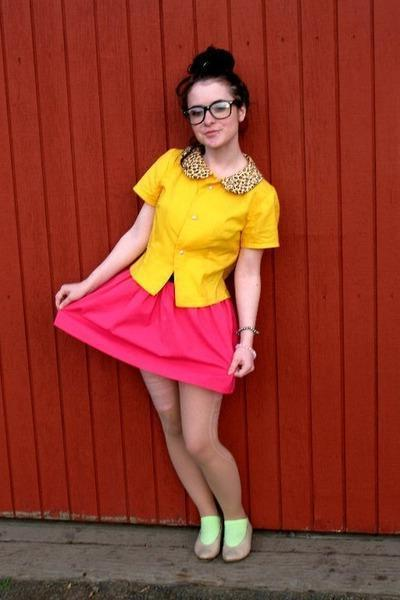short sleeve shirt: (125, 147, 283, 306)
skirt: (50, 267, 244, 398)
